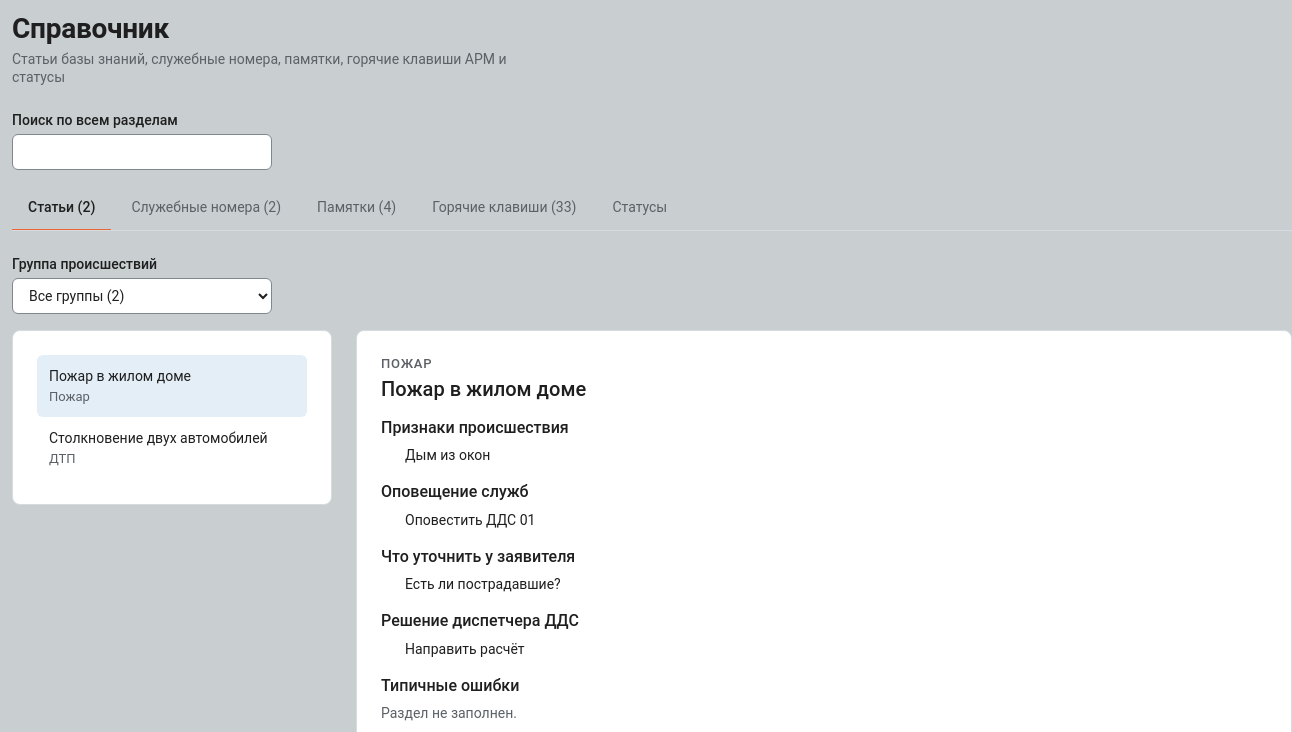
Scenario: ReferenceScreen › показывает статьи, фильтрует по поиску и открывает пять разделов статьи
Expected: the button "Пожар в жилом доме Пожар" is shown, [37,355,307,417]
Expected: the tab "Статьи (2)" is shown, [12,186,111,231]
In the search field labelled "Поиск по всем разделам": (142, 152) [12,134,272,170], type "столкновение"
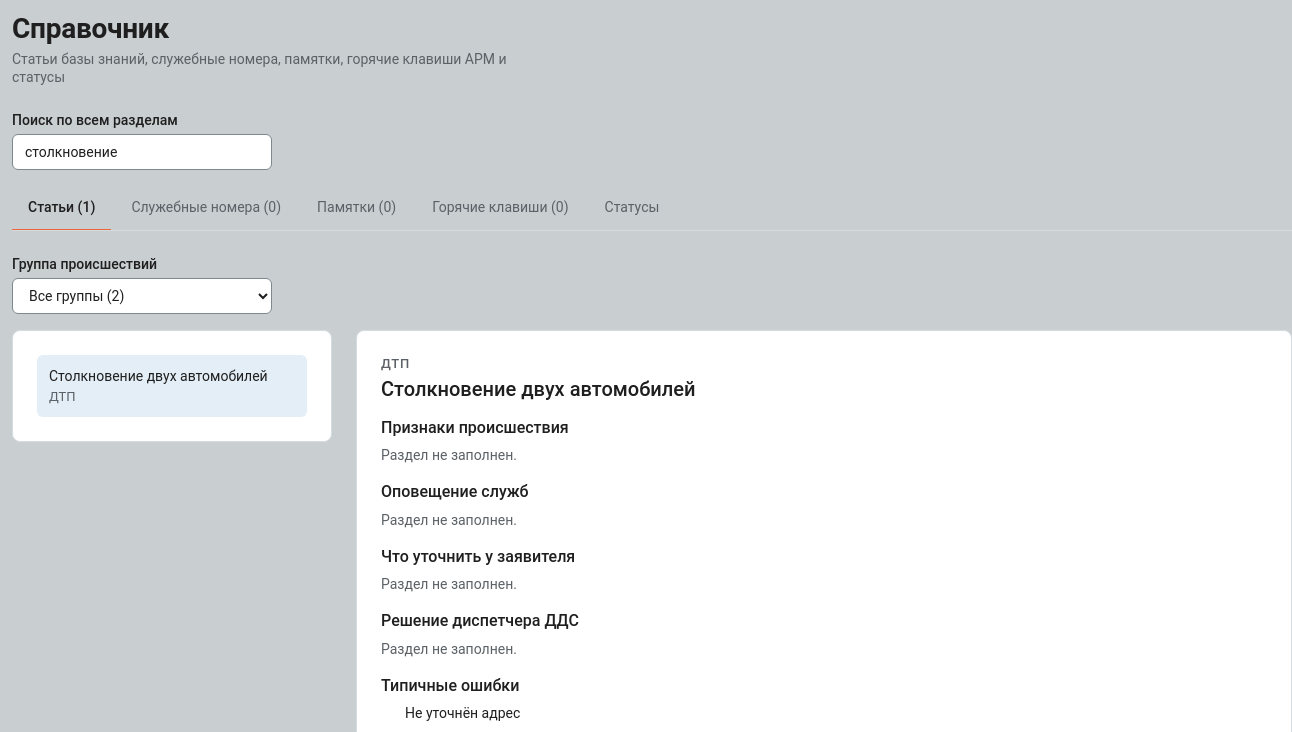
Result: the button "Пожар в жилом доме" is gone
Result: the heading "Столкновение двух автомобилей" is shown at [381,377,696,401]
Result: the list item "Не уточнён адрес" is shown at [405,705,520,721]
